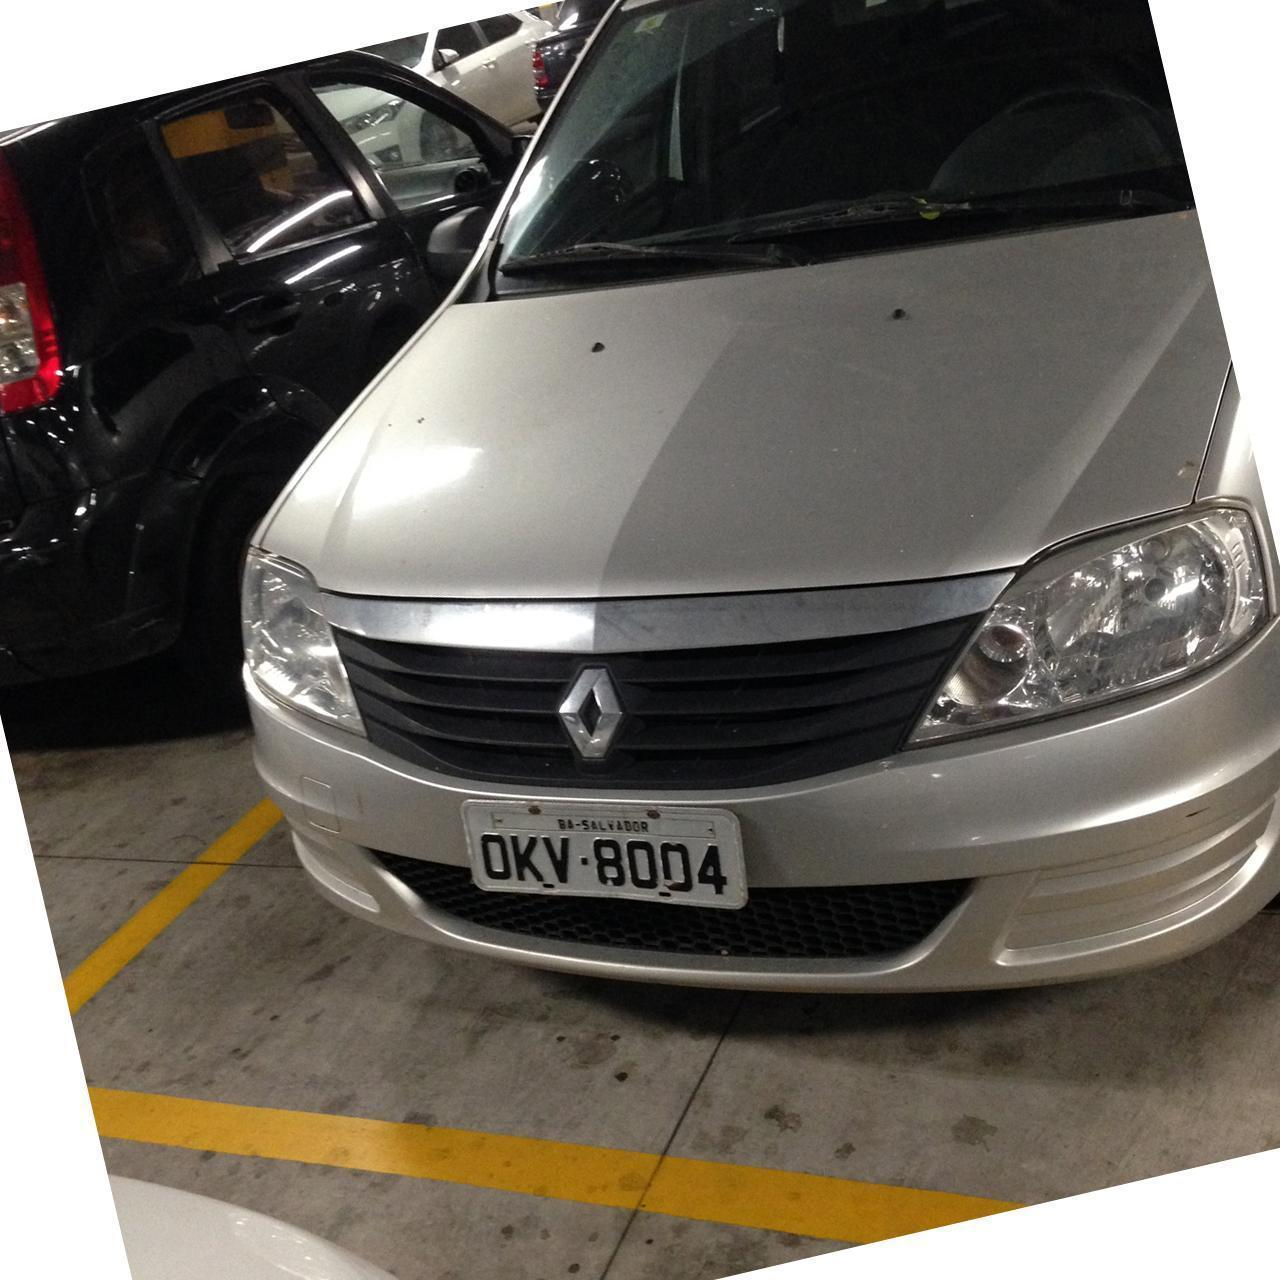placa de veiculo: (450, 780, 782, 911)
